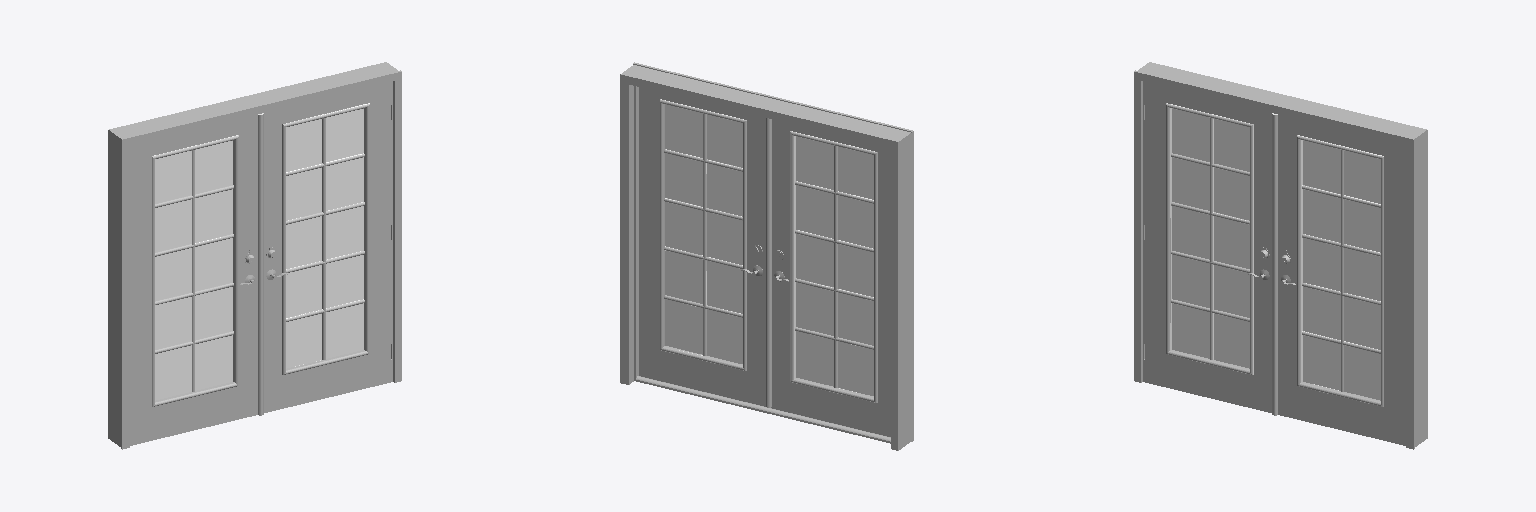
Rendered from patiodoor.obj.
The picture shows the model from 3 angles: view 1: azimuth 30°, elevation 25°; view 2: azimuth 150°, elevation 25°; view 3: azimuth 330°, elevation 25°; orthographic projection.
Parts seen in each view (by area): view 1: French_Door_Slab_-_36"_-_Right_001_Mesh.018, French_Door_Slab_-_36"_-_Left_001_Mesh.009, French_Door_Frame_-_72"_001_Mesh; view 2: French_Door_Slab_-_36"_-_Right_001_Mesh.018, French_Door_Slab_-_36"_-_Left_001_Mesh.009, French_Door_Frame_-_72"_001_Mesh; view 3: French_Door_Slab_-_36"_-_Right_001_Mesh.018, French_Door_Slab_-_36"_-_Left_001_Mesh.009, French_Door_Frame_-_72"_001_Mesh.
Boxes of the visible parts, x1=… form: French_Door_Slab_-_36"_-_Right_001_Mesh.018: x1=258, y1=82, x2=390, y2=415; French_Door_Slab_-_36"_-_Left_001_Mesh.009: x1=130, y1=115, x2=257, y2=445; French_Door_Frame_-_72"_001_Mesh: x1=108, y1=62, x2=401, y2=449; French_Door_Slab_-_36"_-_Right_001_Mesh.018: x1=639, y1=87, x2=765, y2=406; French_Door_Slab_-_36"_-_Left_001_Mesh.009: x1=766, y1=118, x2=890, y2=436; French_Door_Frame_-_72"_001_Mesh: x1=620, y1=62, x2=913, y2=450; French_Door_Slab_-_36"_-_Right_001_Mesh.018: x1=1272, y1=113, x2=1405, y2=445; French_Door_Slab_-_36"_-_Left_001_Mesh.009: x1=1145, y1=82, x2=1271, y2=412; French_Door_Frame_-_72"_001_Mesh: x1=1134, y1=62, x2=1427, y2=449.
Size of the model in its own units: 5.87 by 6.21 by 0.6196.